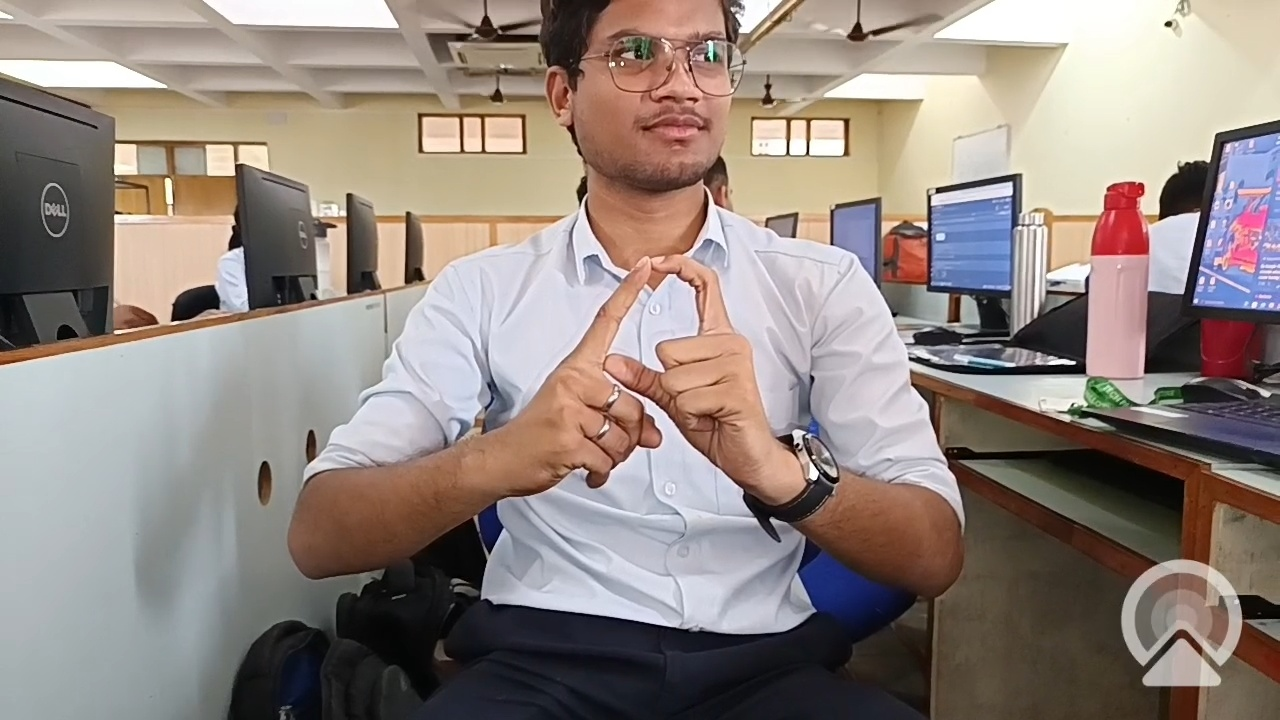D: (515, 245, 776, 433)
